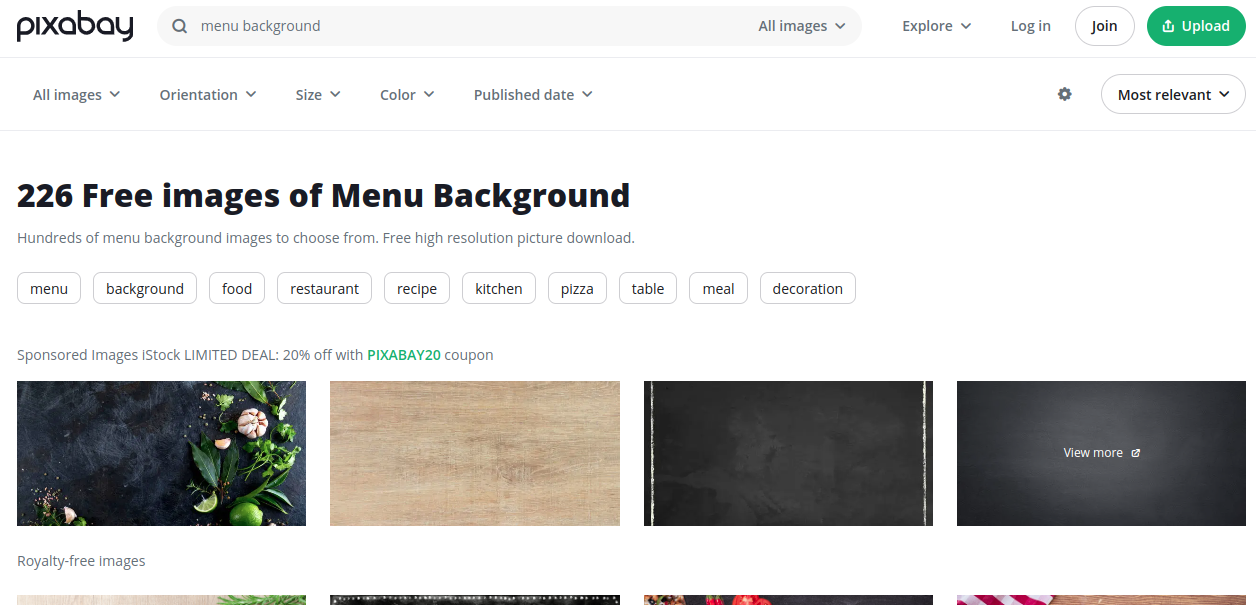menu-bar: (1, 4, 1248, 65)
